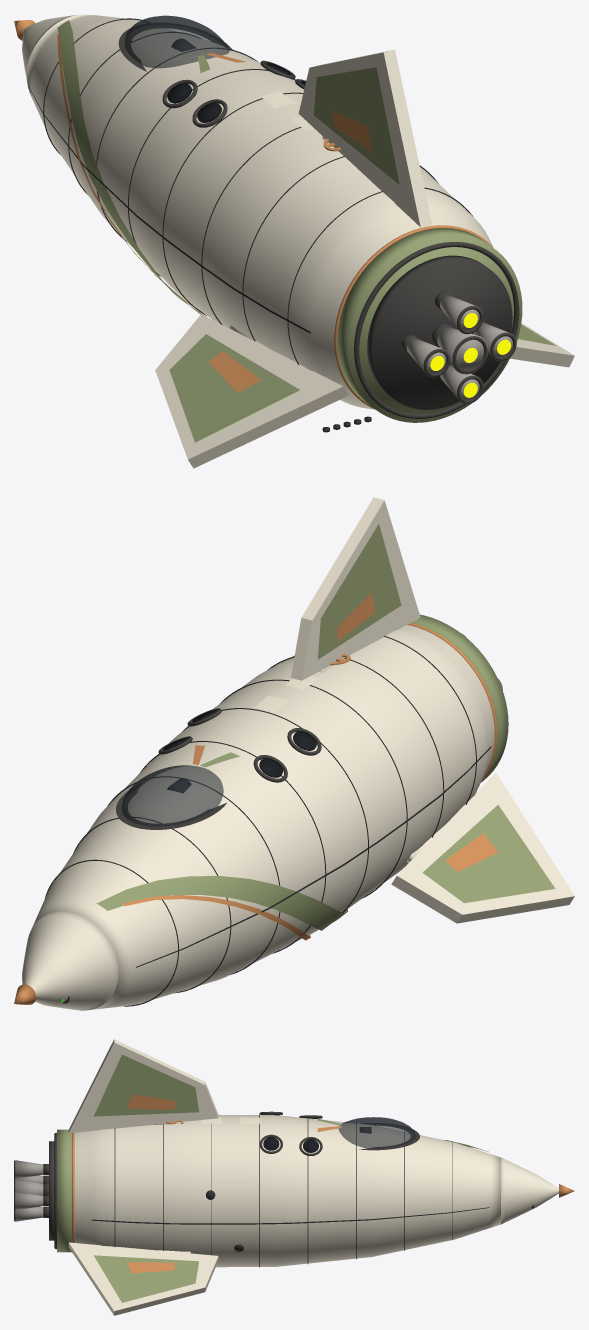
The model's file is Ship_LunarCourier_153144.glb.
3 views of the same model, one above another, from view 1: azimuth 30°, elevation 25°; view 2: azimuth 150°, elevation 25°; view 3: azimuth 270°, elevation 25° (orthographic). The views are drawn at different scales.
Visible parts, largest first — view 1: Fuselage_TaperedPaintedBody, EngineDeck_AftDarkMountPlate, TailFin_LeftLower_broad_CreamAerofoil, AftCollar_PrimaryEngineBand, TailFin_Dorsal_broad_CreamAerofoil, TailFinPanel_LeftLower_PrimarySide_B, TailFinPanel_Dorsal_PrimarySide_A, CanopyGlass_DorsalLowInsetDome, PaintSpiralSash_PrimarySweep, AftTrimRing_DarkRear, TailFin_RightLower_broad_CreamAerofoil, EngineBell_Center_BurnishedNozzle (+12 smaller); view 2: Fuselage_TaperedPaintedBody, TailFin_LeftLower_broad_CreamAerofoil, NoseCone_PaintedNeedleSection, TailFin_Dorsal_broad_CreamAerofoil, TailFinPanel_LeftLower_PrimarySide_B, PaintSpiralSash_PrimarySweep, CanopyGlass_DorsalLowInsetDome, TailFinPanel_Dorsal_PrimarySide_A, AftCollar_PrimaryEngineBand, CanopyFrame_DorsalOvalRim, PaintSpiralSash_SecondaryInnerLine, TailFinTrimPatch_LeftLower_B (+3 smaller); view 3: Fuselage_TaperedPaintedBody, TailFin_Dorsal_broad_CreamAerofoil, TailFin_RightLower_broad_CreamAerofoil, TailFinPanel_Dorsal_PrimarySide_B, TailFinPanel_RightLower_PrimarySide_A, NoseCone_PaintedNeedleSection, CanopyGlass_DorsalLowInsetDome, AftCollar_PrimaryEngineBand, HullLongitudinalSeam_01, EngineDeck_AftDarkMountPlate, TailFinTrimPatch_Dorsal_B, TailFinTrimPatch_RightLower_A (+4 smaller).
Part boxes in pixels (box(x1,y1,x2,y2)): Fuselage_TaperedPaintedBody: box(27, 14, 492, 409); EngineDeck_AftDarkMountPlate: box(367, 255, 512, 409); TailFin_LeftLower_broad_CreamAerofoil: box(155, 314, 348, 468); AftCollar_PrimaryEngineBand: box(337, 228, 522, 422); TailFin_Dorsal_broad_CreamAerofoil: box(298, 49, 431, 227); TailFinPanel_LeftLower_PrimarySide_B: box(169, 334, 299, 442); TailFinPanel_Dorsal_PrimarySide_A: box(313, 67, 399, 184); CanopyGlass_DorsalLowInsetDome: box(124, 15, 229, 68); PaintSpiralSash_PrimarySweep: box(57, 20, 206, 316); AftTrimRing_DarkRear: box(354, 242, 519, 418); TailFin_RightLower_broad_CreamAerofoil: box(510, 323, 574, 367); EngineBell_Center_BurnishedNozzle: box(437, 327, 488, 374); Fuselage_TaperedPaintedBody: box(31, 625, 494, 1009); TailFin_LeftLower_broad_CreamAerofoil: box(391, 772, 574, 923); NoseCone_PaintedNeedleSection: box(22, 911, 118, 1010); TailFin_Dorsal_broad_CreamAerofoil: box(291, 497, 420, 680); TailFinPanel_LeftLower_PrimarySide_B: box(422, 805, 555, 903); PaintSpiralSash_PrimarySweep: box(96, 876, 347, 930); CanopyGlass_DorsalLowInsetDome: box(121, 765, 223, 826); TailFinPanel_Dorsal_PrimarySide_A: box(318, 524, 401, 659); AftCollar_PrimaryEngineBand: box(411, 614, 508, 781); CanopyFrame_DorsalOvalRim: box(116, 783, 226, 829); PaintSpiralSash_SecondaryInnerLine: box(122, 895, 310, 940); TailFinTrimPatch_LeftLower_B: box(445, 833, 497, 871); Fuselage_TaperedPaintedBody: box(74, 1114, 500, 1267); TailFin_Dorsal_broad_CreamAerofoil: box(68, 1039, 218, 1133); TailFin_RightLower_broad_CreamAerofoil: box(68, 1242, 218, 1315); TailFinPanel_Dorsal_PrimarySide_B: box(93, 1054, 199, 1116); TailFinPanel_RightLower_PrimarySide_A: box(94, 1255, 199, 1302); NoseCone_PaintedNeedleSection: box(501, 1157, 558, 1224); CanopyGlass_DorsalLowInsetDome: box(338, 1117, 415, 1148); AftCollar_PrimaryEngineBand: box(57, 1129, 71, 1252); HullLongitudinalSeam_01: box(91, 1207, 489, 1224); EngineDeck_AftDarkMountPlate: box(49, 1141, 54, 1240); TailFinTrimPatch_Dorsal_B: box(127, 1094, 175, 1109); TailFinTrimPatch_RightLower_A: box(127, 1262, 175, 1273).
Bounding box in the file's own units: 4.25 × 3.88 × 8.7.
